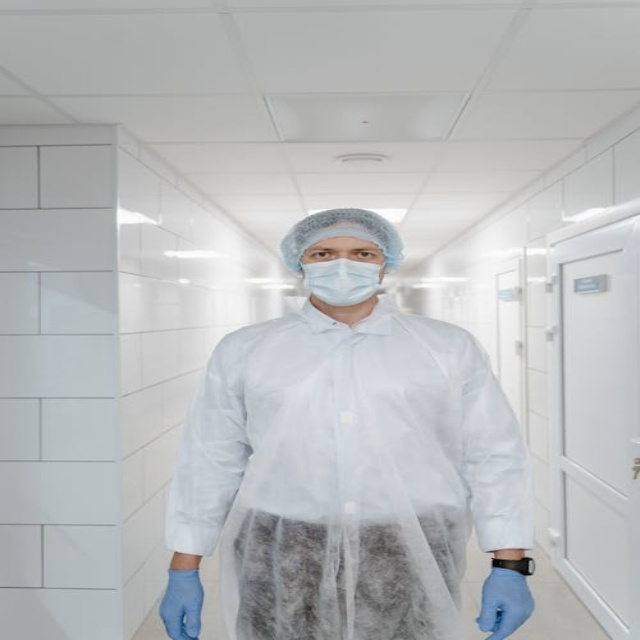Guantes: (477, 567, 535, 639), (160, 570, 205, 638)
Mascara: (300, 257, 385, 307)
Sin_gafas: (304, 249, 385, 264)
